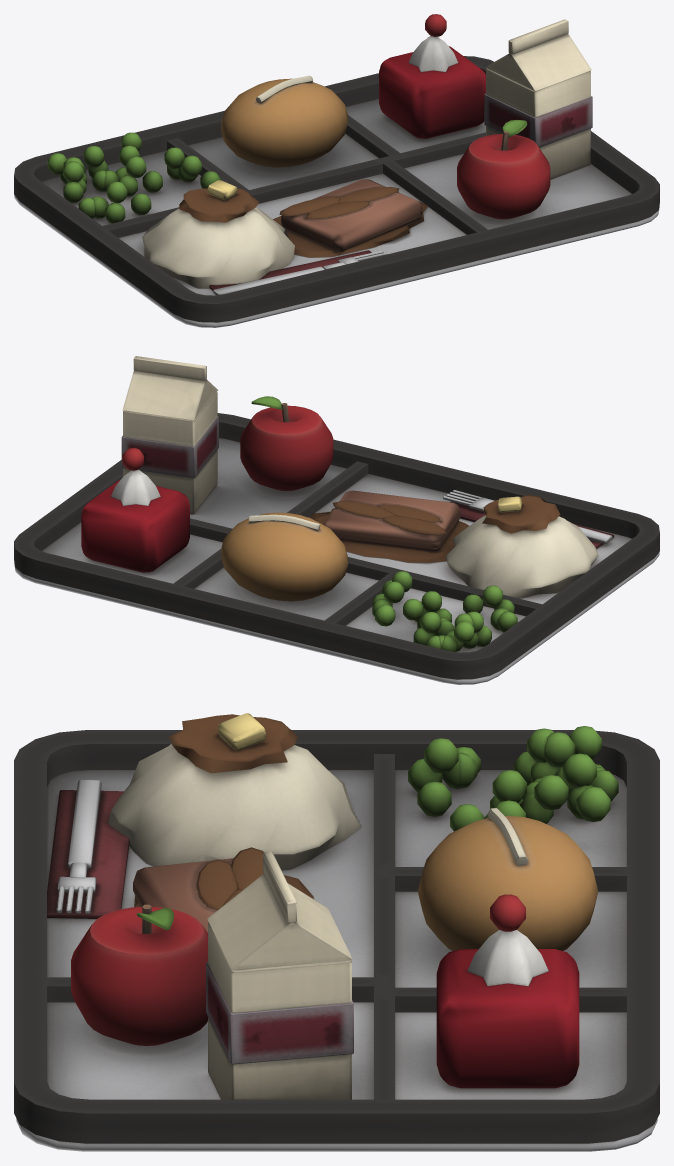
The model's file is LunchTray.fbx.
3 renders of one model, top to bottom at view 1: azimuth 30°, elevation 25°; view 2: azimuth 150°, elevation 25°; view 3: azimuth 270°, elevation 25°, orthographic. The views are drawn at different scales.
Parts seen in each view (by area): view 1: LunchTray; view 2: LunchTray; view 3: LunchTray.
Boxes of the visible parts, x1=… form: LunchTray: x1=14, y1=14, x2=659, y2=327; LunchTray: x1=14, y1=356, x2=659, y2=684; LunchTray: x1=14, y1=713, x2=659, y2=1151.
Bounding box in the file's own units: 191 × 54 × 136.
